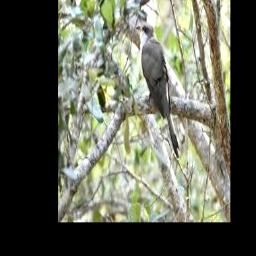Cuckoo: (137, 23, 179, 158)
